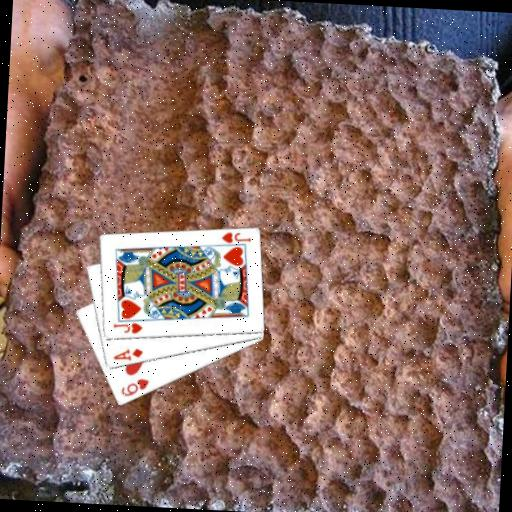6H: (118, 375, 151, 400)
AD: (110, 345, 144, 364)
JH: (219, 229, 253, 246), (111, 319, 144, 336)
